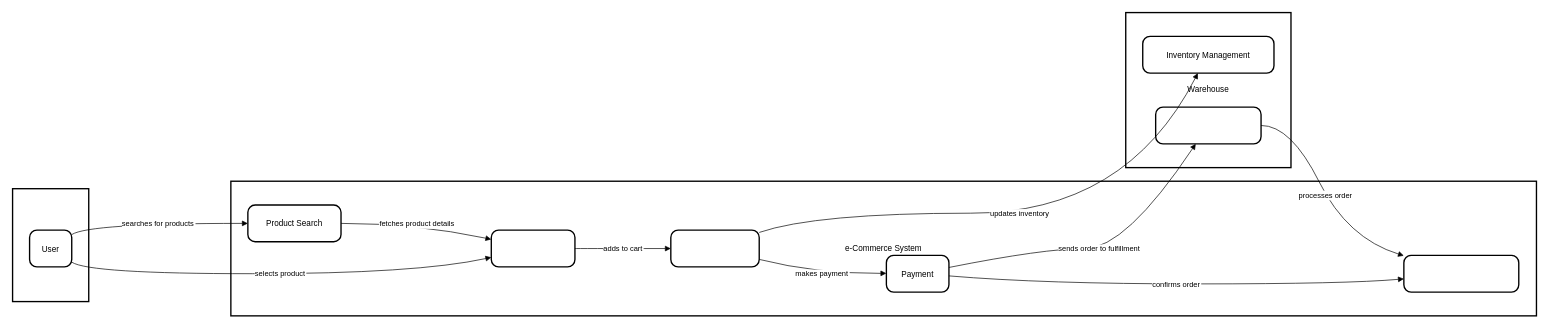
This 1548x328 diagram has some shape labels left out. Each missing label, with the centre of its shape:
Order Confirmation: point (1461, 273)
Order Fulfillment: point (1208, 125)
Product Page: point (532, 248)
Shopping Cart: point (715, 248)
